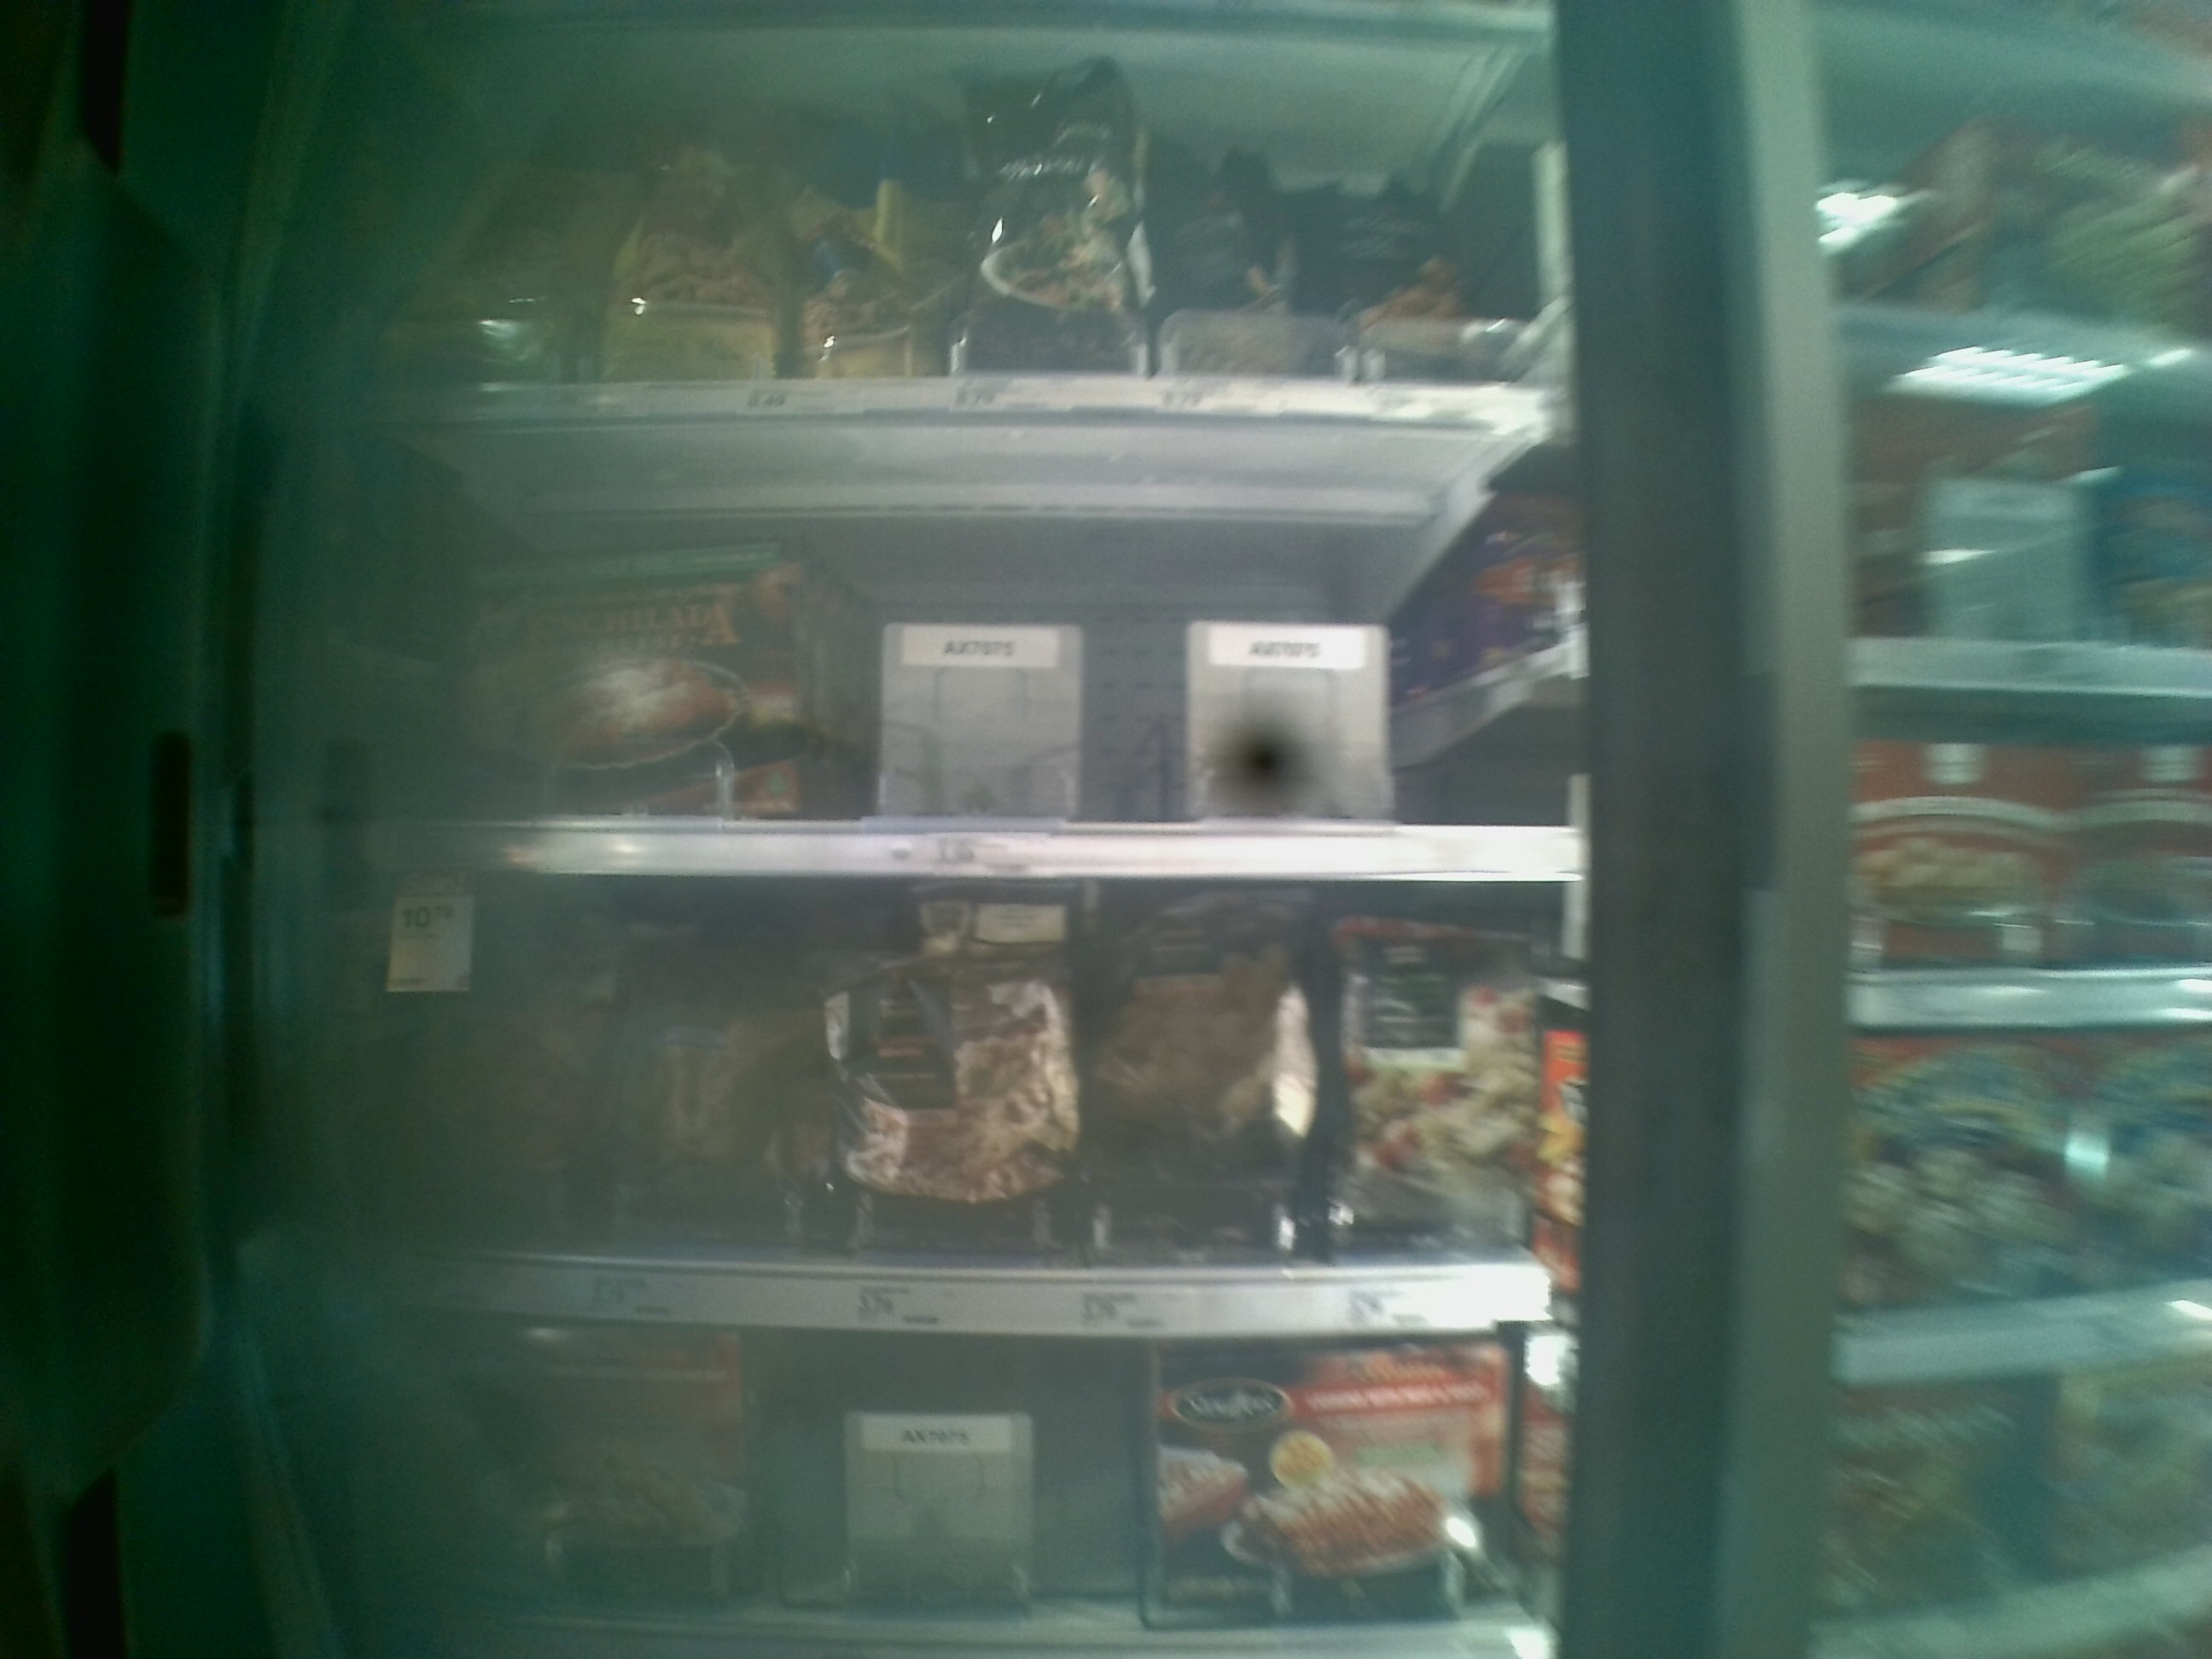shelf: (359, 871, 1578, 1340), (357, 408, 1588, 871), (340, 33, 1576, 411), (399, 1340, 1538, 1659)
